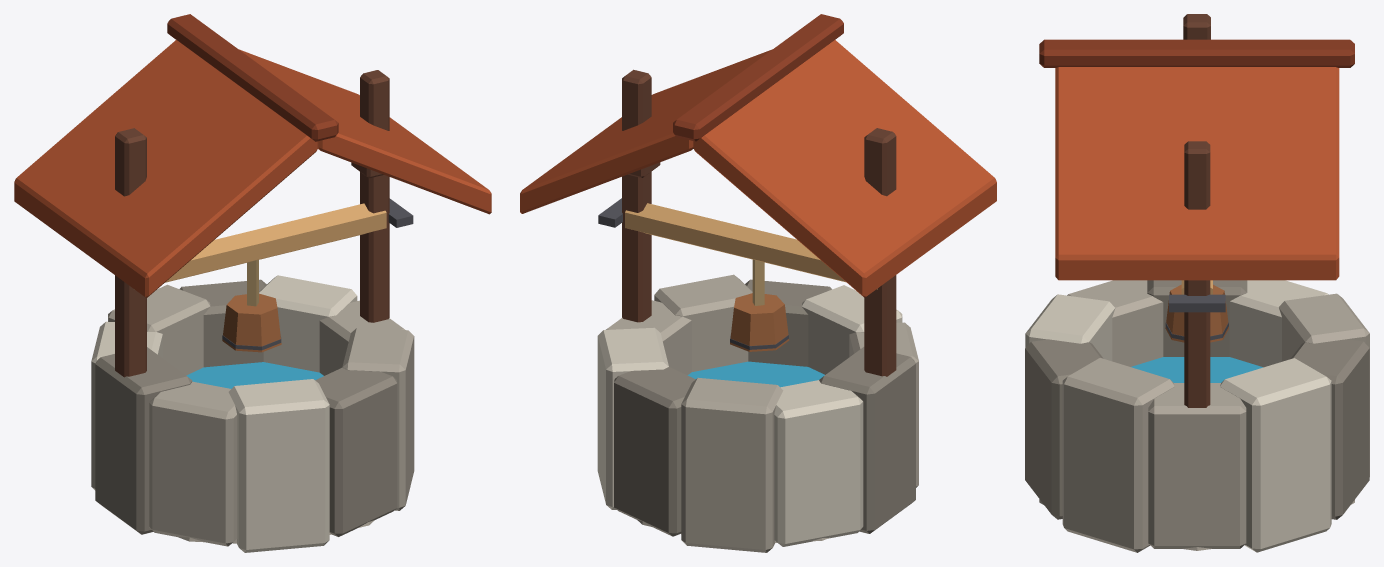
The model's file is Well.fbx.
The picture shows the model from 3 angles, left to right: view 1: azimuth 30°, elevation 25°; view 2: azimuth 150°, elevation 25°; view 3: azimuth 270°, elevation 25°; orthographic projection. The views are drawn at different scales.
Visible parts, largest first — view 1: Well; view 2: Well; view 3: Well.
Part boxes in pixels (x1,y1,x2,y2): Well: (14, 14, 491, 552); Well: (520, 14, 996, 552); Well: (1025, 14, 1369, 552).
Bounding box in the file's own units: 2.7 × 3.11 × 2.2.
